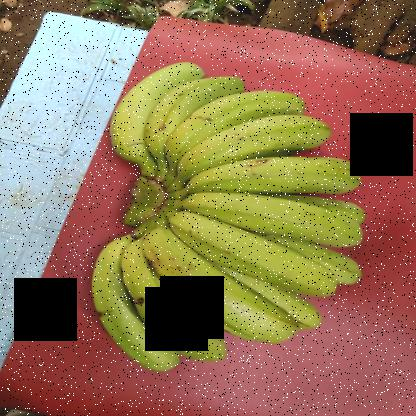freshunripe: (171, 213, 341, 299), (180, 188, 370, 252), (176, 112, 338, 176), (107, 59, 204, 160)
unripe: (146, 224, 312, 346), (115, 236, 238, 365), (86, 230, 171, 370), (191, 148, 371, 198)
